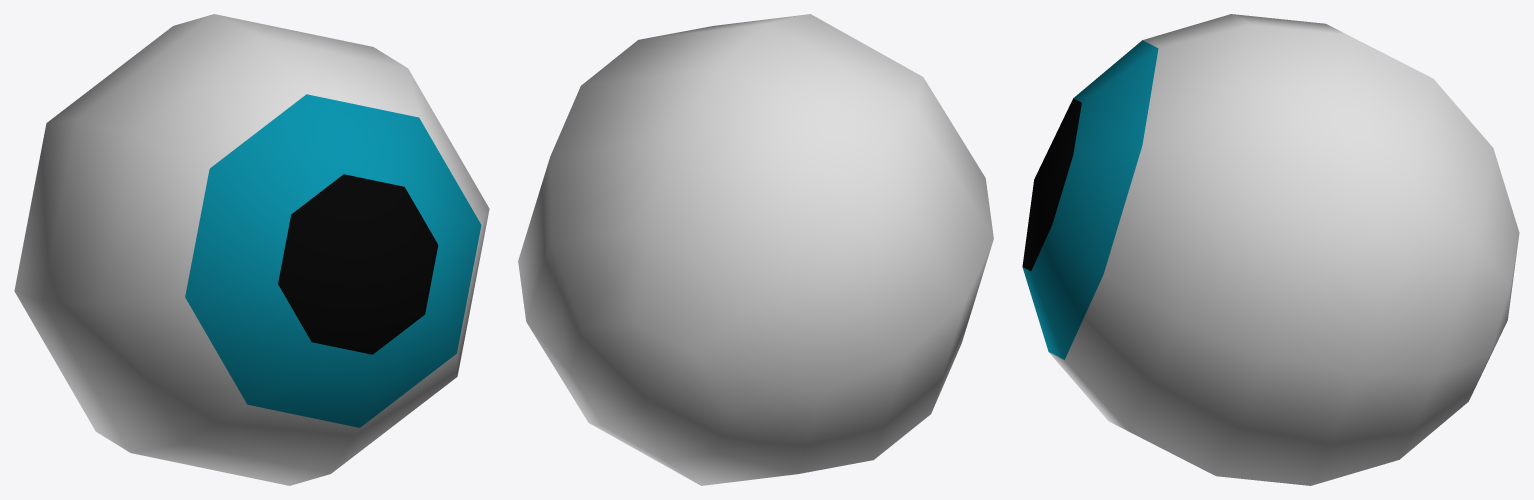
File: eye.fbx
3 views of the same model, side by side, from view 1: azimuth 30°, elevation 25°; view 2: azimuth 150°, elevation 25°; view 3: azimuth 270°, elevation 25° (orthographic). The views are drawn at different scales.
Visible parts, largest first — view 1: pSphere13; view 2: pSphere13; view 3: pSphere13.
Boxes of the visible parts, x1,y1,x2,y2 form: pSphere13: (14, 14, 489, 485); pSphere13: (518, 14, 993, 485); pSphere13: (1022, 14, 1519, 485).
Size of the model in its own units: 0.2522 by 0.2514 by 0.2514.
